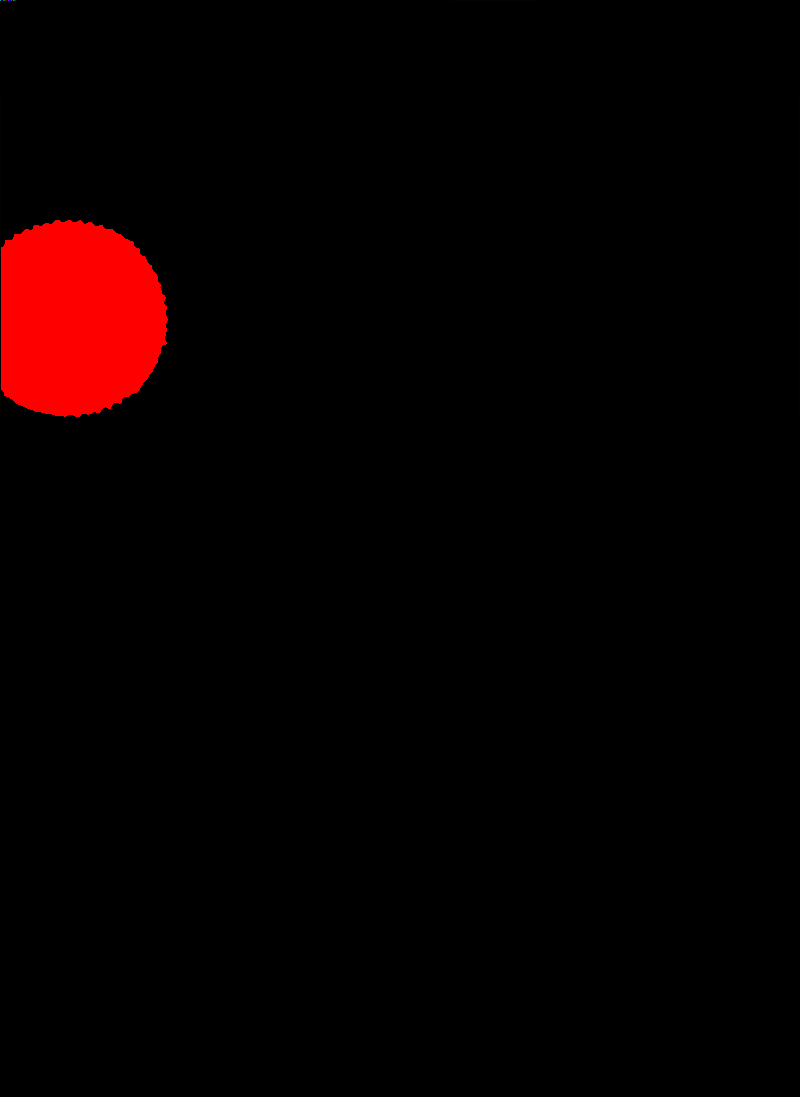stamp: (1, 218, 164, 417)
